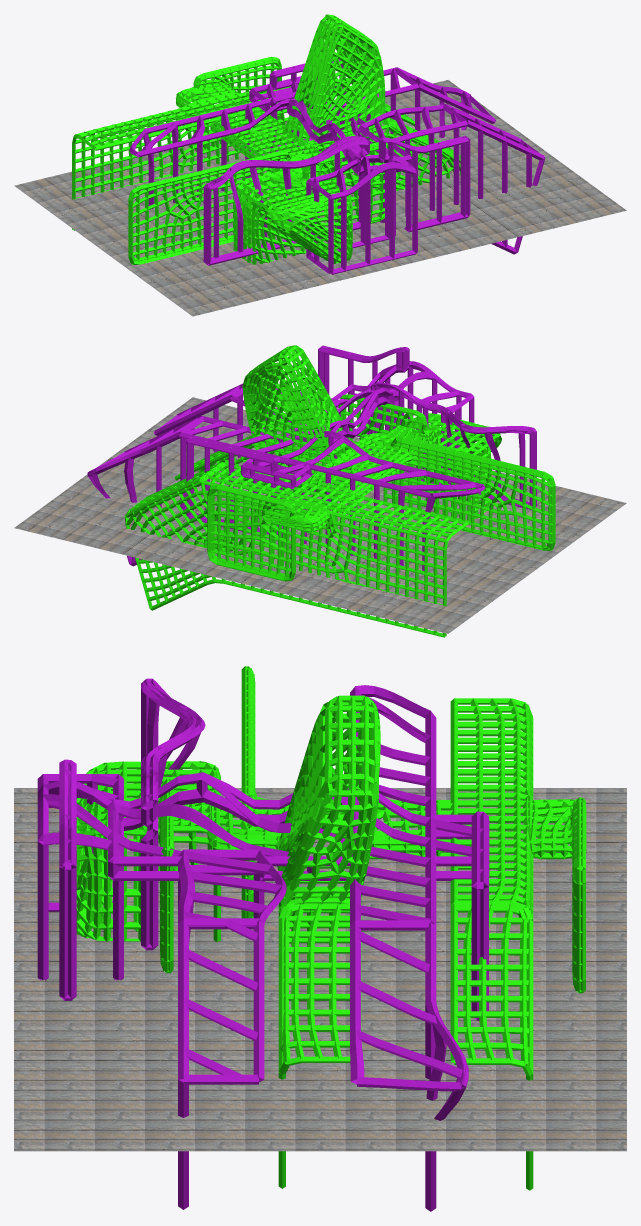
The model's file is max_out3.FBX.
3 views of the same model, one above another, from view 1: azimuth 30°, elevation 25°; view 2: azimuth 150°, elevation 25°; view 3: azimuth 270°, elevation 25° (orthographic). The views are drawn at different scales.
Parts seen in each view (by area): view 1: massing, Plane001, frame2; view 2: massing, Plane001, frame2; view 3: Plane001, massing, frame2.
Part boxes in pixels (x1,y1,x2,y2): massing: (72,14,460,264); Plane001: (14,80,626,316); frame2: (129,59,545,274); massing: (124,345,555,637); Plane001: (14,397,626,633); frame2: (87,345,536,570); Plane001: (14,788,626,1151); massing: (76,666,586,1190); frame2: (37,678,489,1211).
Size of what is drawn, in the model's own units: 241 by 130 by 172.
Materials: 3 (1 with a texture image).
